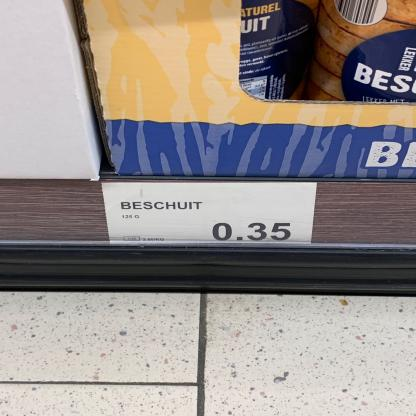prtg: (102, 183, 319, 246)
